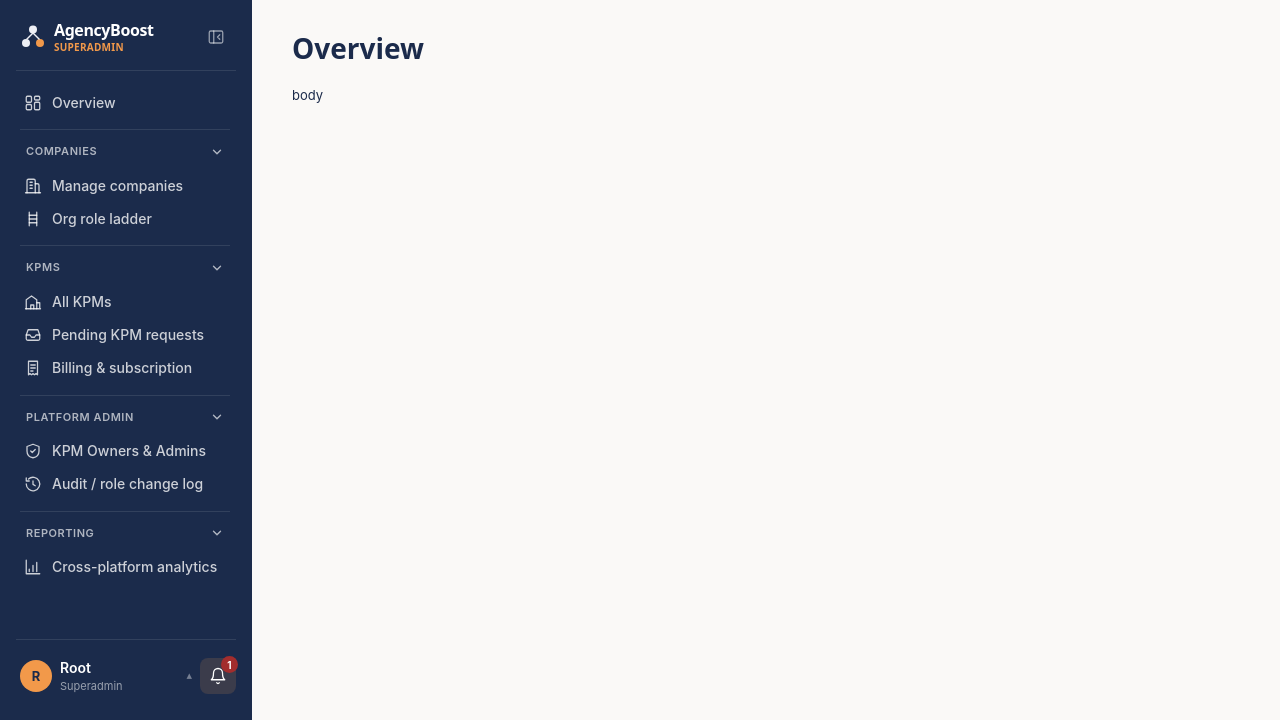
RoleShell › the notification bell (client feedback, 2026-09-24) › P12.1-T2 AC-4 closes a Super Admin’s popover on Escape, and puts focus back on the bell
Click the button named "Notifications, 1 unread".
click(218, 676)  # box [200,658,236,694]
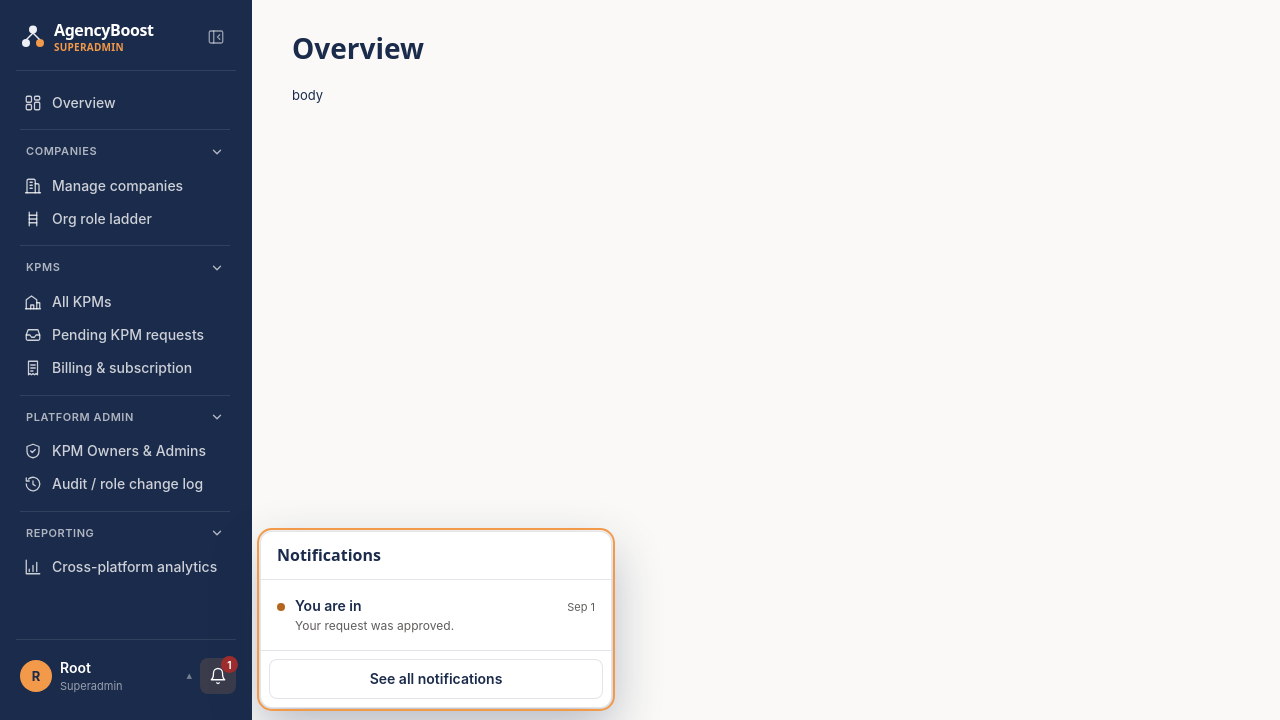
Press Escape
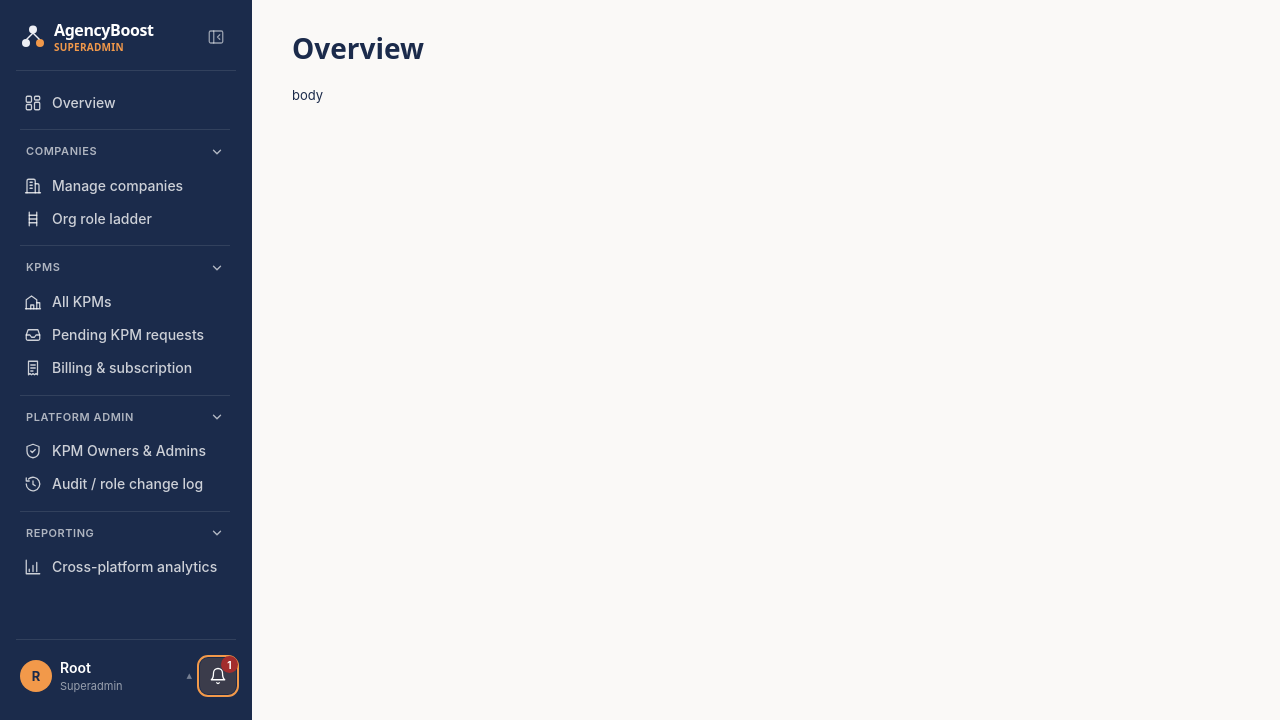
Result: the heading "Notifications" is gone
